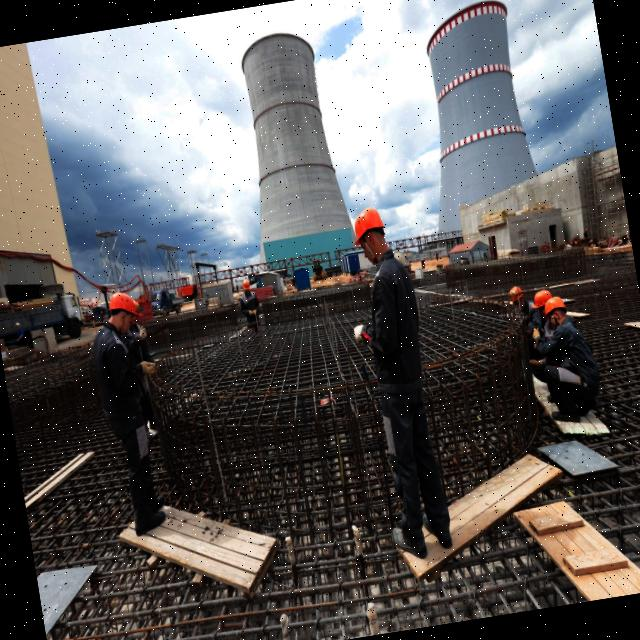Helmet: (351, 209, 390, 246), (107, 292, 140, 323), (542, 296, 569, 320), (532, 290, 556, 311), (509, 285, 526, 305), (243, 279, 253, 294)
NoJacket: (363, 250, 427, 408), (98, 325, 147, 436), (549, 318, 593, 402), (243, 294, 261, 321)
